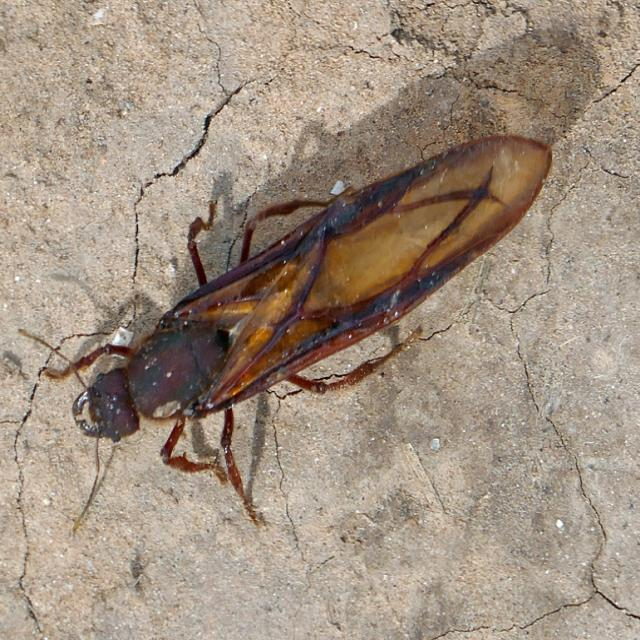Alive-Female-Alate: (41, 135, 554, 530)
